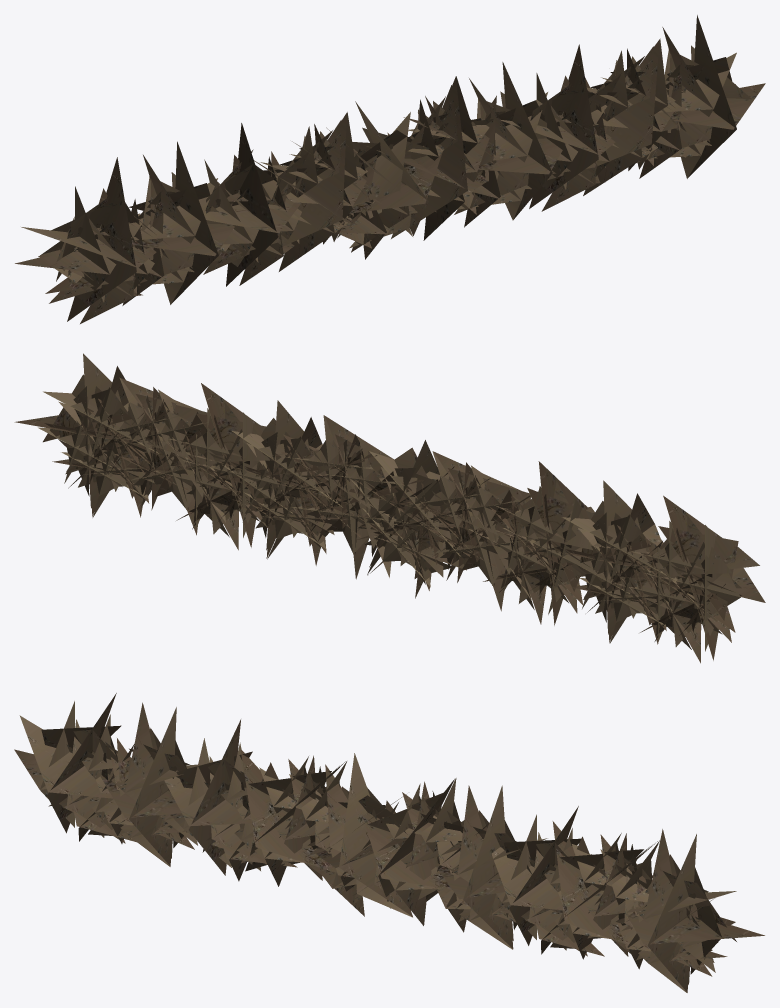
File: grasstuftgroup_row_test.glb
The picture shows the model from 3 angles, top to bottom: view 1: azimuth 30°, elevation 25°; view 2: azimuth 150°, elevation 25°; view 3: azimuth 330°, elevation 25°; orthographic projection.
Size of the model in its own units: 454 by 97.13 by 47.91.
Materials: 1 (1 with a texture image).
